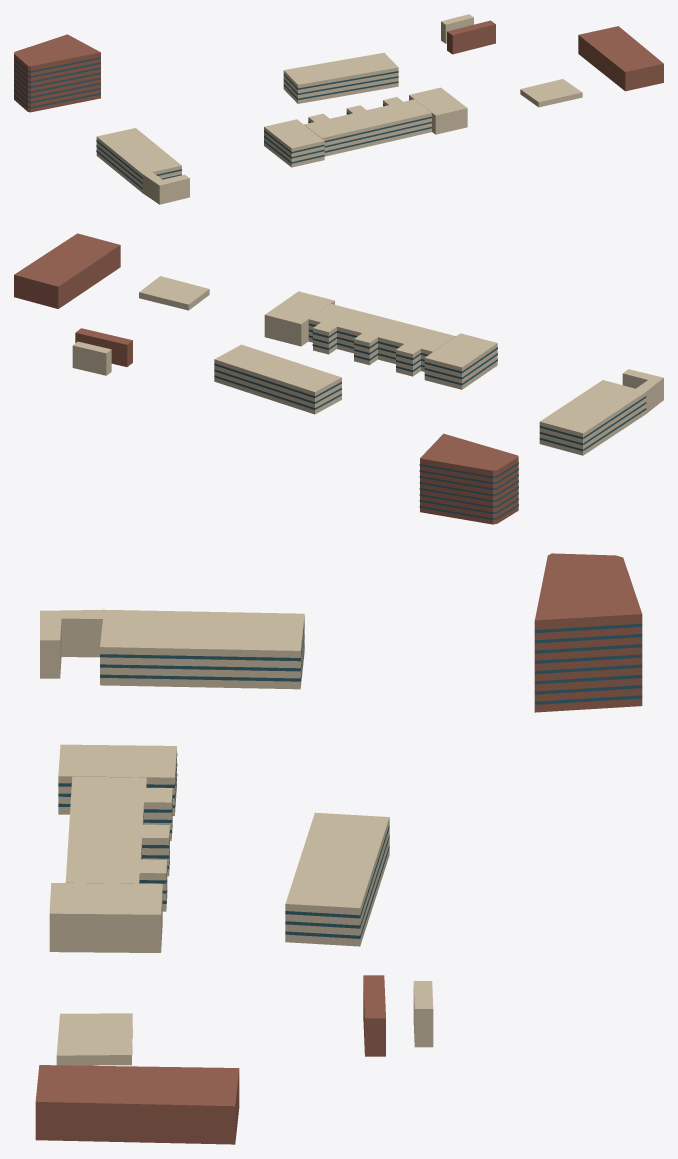
The picture shows the model from 3 angles, top to bottom: view 1: azimuth 30°, elevation 25°; view 2: azimuth 150°, elevation 25°; view 3: azimuth 270°, elevation 25°; orthographic projection. The views are drawn at different scales.
Parts seen in each view (by area): view 1: osm-way-1318770897, osm-way-307126048, osm-way-307126049, osm-way-1370141325, osm-way-1208840254, osm-way-307917289, osm-way-307917290, osm-way-1532962638, osm-way-670670977, osm-way-1370140183, osm-way-1532962637, osm-way-1370140184; view 2: osm-way-1318770897, osm-way-307126048, osm-way-307126049, osm-way-1208840254, osm-way-1370141325, osm-way-307917289, osm-way-307917290, osm-way-670670977, osm-way-1532962638, osm-way-1532962637, osm-way-1370140183; view 3: osm-way-1318770897, osm-way-1370141325, osm-way-1208840254, osm-way-307126049, osm-way-307126048, osm-way-307917290, osm-way-307917289, osm-way-670670977, osm-way-1370140184, osm-way-1532962638, osm-way-1370140183, osm-way-1532962637.
Boxes of the visible parts, x1,y1,x2,y2 form: osm-way-1318770897: (14,34,100,112); osm-way-307126048: (304,97,431,156); osm-way-307126049: (283,52,398,103); osm-way-1370141325: (578,26,663,91); osm-way-1208840254: (96,128,181,192); osm-way-307917289: (264,119,324,167); osm-way-307917290: (409,87,467,134); osm-way-1532962638: (447,20,495,54); osm-way-670670977: (520,79,582,107); osm-way-1370140183: (154,174,189,204); osm-way-1532962637: (441,14,473,43); osm-way-1370140184: (142,172,161,200); osm-way-1318770897: (419,433,518,524); osm-way-307126048: (308,304,455,376); osm-way-307126049: (214,344,341,414); osm-way-1208840254: (539,380,646,455); osm-way-1370141325: (14,233,120,308); osm-way-307917289: (424,333,497,389); osm-way-307917290: (264,291,334,346); osm-way-670670977: (139,276,209,310); osm-way-1532962638: (75,328,132,366); osm-way-1532962637: (72,341,111,375); osm-way-1370140183: (622,369,663,404); osm-way-1318770897: (534,553,642,712); osm-way-1370141325: (35,1065,239,1144); osm-way-1208840254: (100,609,304,689); osm-way-307126049: (285,812,389,946); osm-way-307126048: (65,776,172,911); osm-way-307917290: (49,883,162,952); osm-way-307917289: (58,744,177,815); osm-way-670670977: (56,1013,132,1065); osm-way-1370140184: (61,609,103,657); osm-way-1532962638: (363,975,385,1056); osm-way-1370140183: (40,610,61,678); osm-way-1532962637: (413,981,433,1047).
Bounding box in the file's own units: 419 × 36 × 215.
